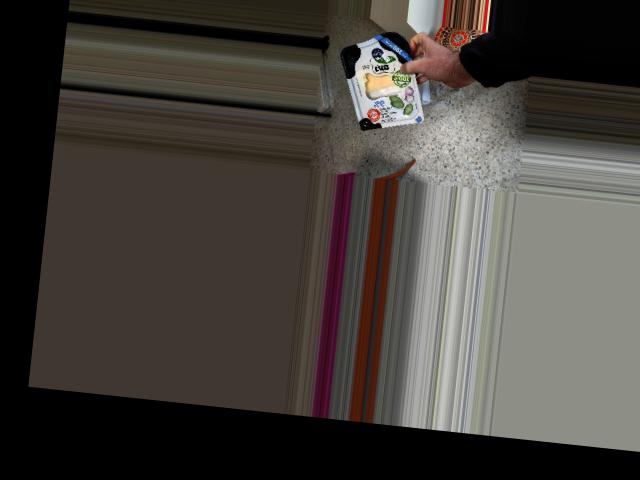cheese: (346, 32, 423, 134)
